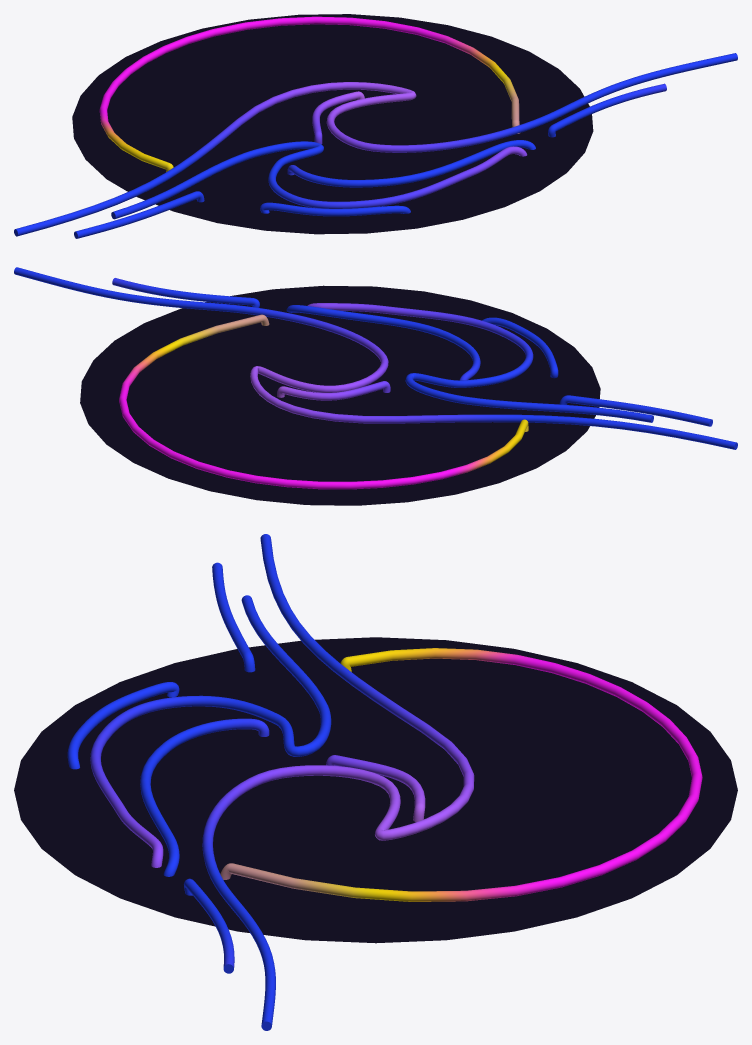
Rendered from Neon Wave.fbx.
3 views of the same model, one above another, from view 1: azimuth 30°, elevation 25°; view 2: azimuth 150°, elevation 25°; view 3: azimuth 270°, elevation 25° (orthographic). The views are drawn at different scales.
Visible parts, largest first — view 1: Neon Sign Mount, Neon Wave; view 2: Neon Sign Mount, Neon Wave; view 3: Neon Sign Mount, Neon Wave.
Part boxes in pixels (x1=…): Neon Sign Mount: x1=72, y1=14, x2=593, y2=234; Neon Wave: x1=14, y1=16, x2=737, y2=238; Neon Sign Mount: x1=80, y1=285, x2=600, y2=505; Neon Wave: x1=14, y1=267, x2=737, y2=489; Neon Sign Mount: x1=14, y1=637, x2=737, y2=943; Neon Wave: x1=67, y1=534, x2=702, y2=1030.
Size of the model in its own units: 435 by 9.29 by 273.
